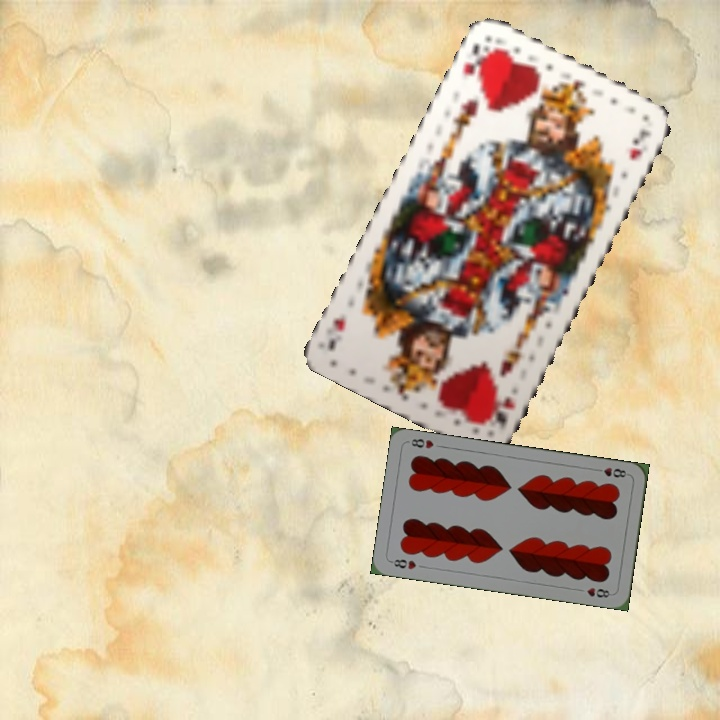H8: (591, 463, 631, 480), (387, 555, 419, 572)
HK: (459, 40, 497, 83), (484, 391, 518, 431)
